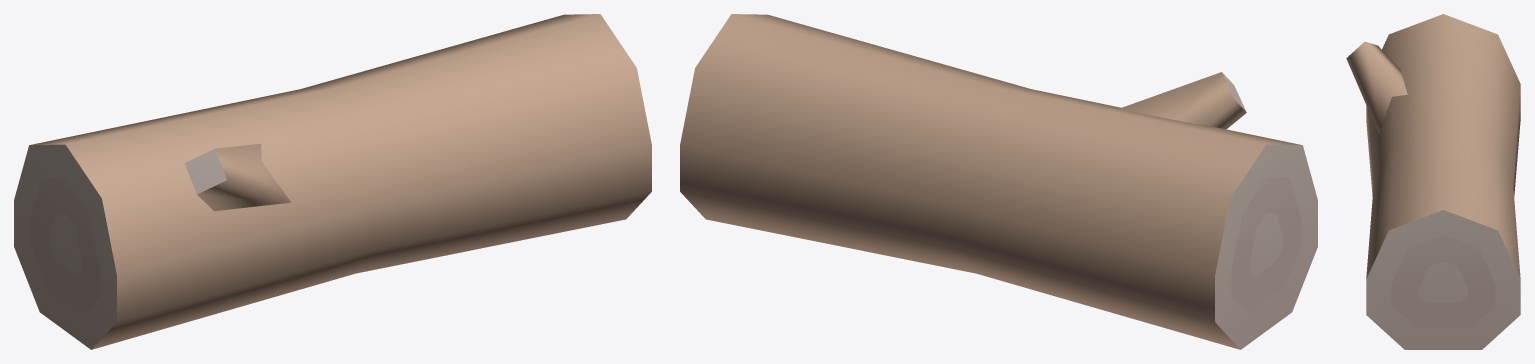
The model's file is logs-single.glb.
3 views of the same model, side by side, from view 1: azimuth 30°, elevation 25°; view 2: azimuth 150°, elevation 25°; view 3: azimuth 270°, elevation 25° (orthographic). The views are drawn at different scales.
Parts seen in each view (by area): view 1: logs-single; view 2: logs-single; view 3: logs-single.
Part boxes in pixels (box(x1,y1,x2,y2)): logs-single: box(14, 14, 651, 349); logs-single: box(680, 14, 1317, 349); logs-single: box(1346, 14, 1520, 349).
Bounding box in the file's own units: 0.3 × 0.1057 × 0.1129.
